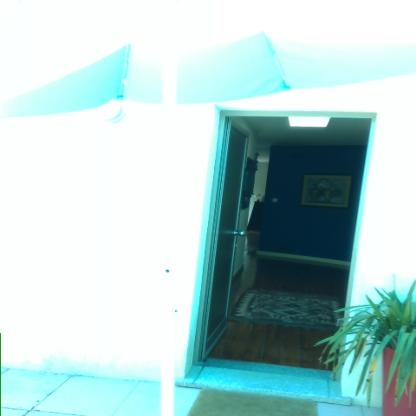open: (158, 101, 386, 409)
